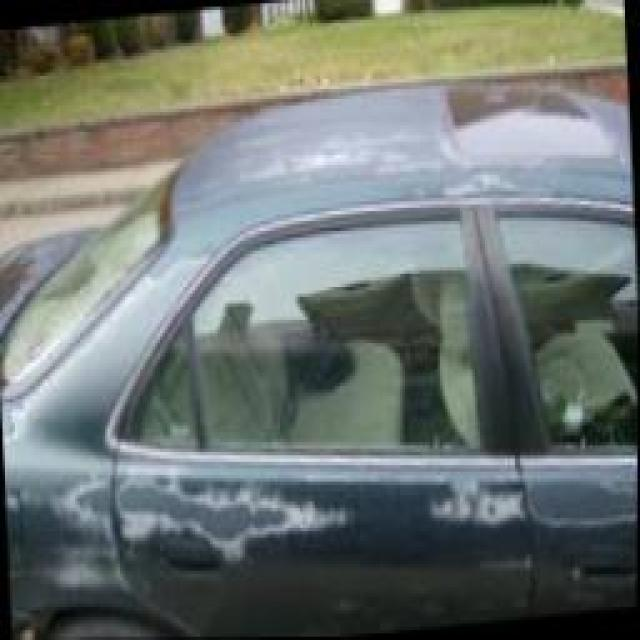Door: (111, 177, 535, 639)
Fender: (6, 431, 121, 611)
